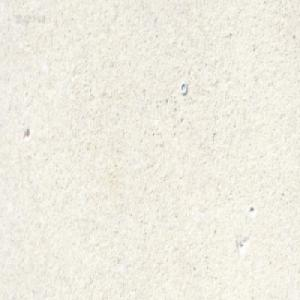Washer: (179, 80, 187, 94)
